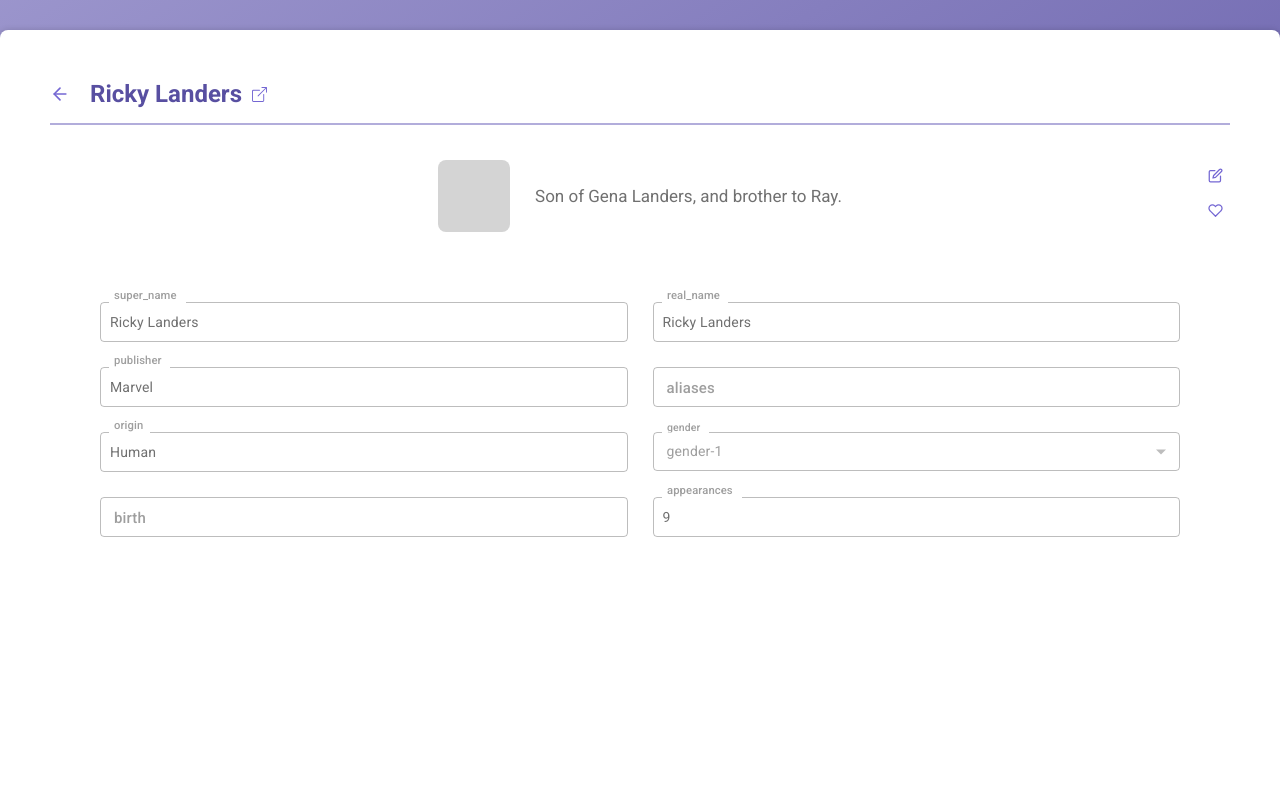
Test: CharacterInfo › should click on edit button
Click the button with test id "edit-button". click: [1215, 175]
box: [1208,168,1222,182]
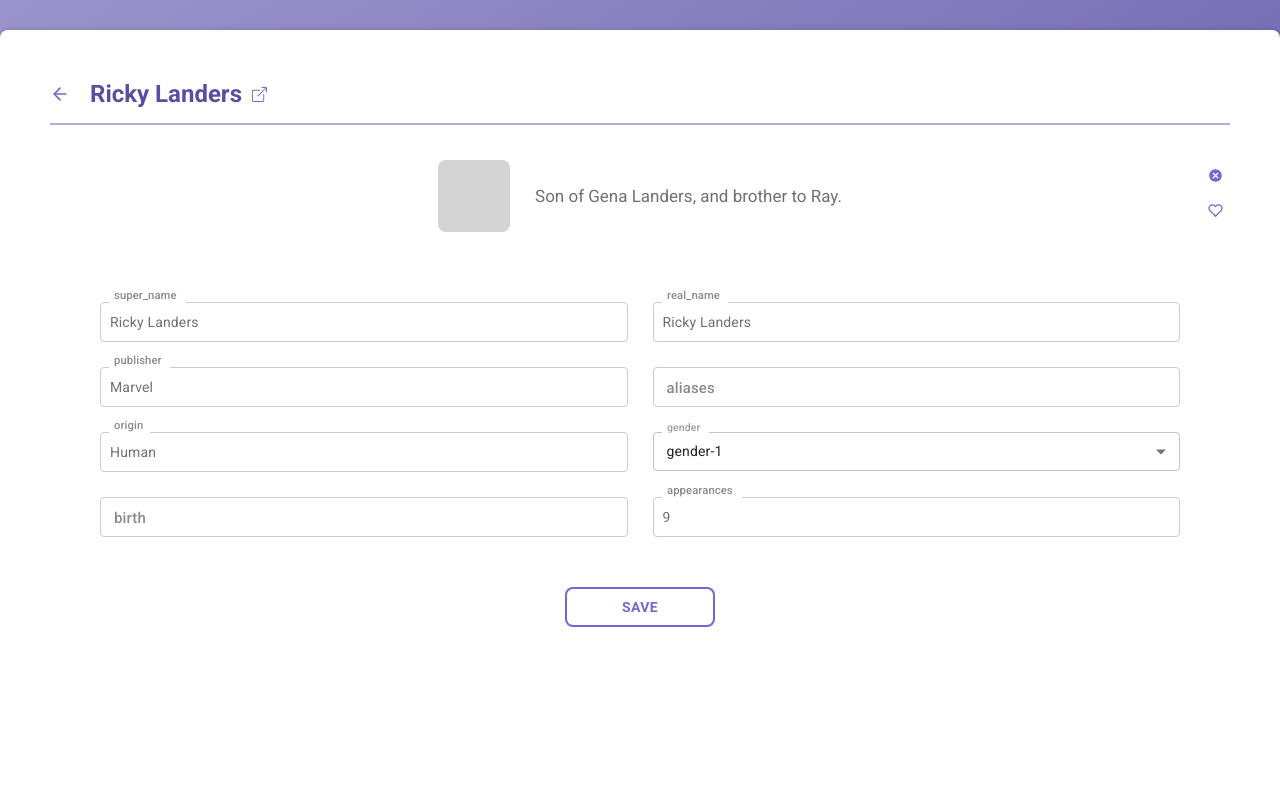
Check: the button with test id "submit-button" is shown, box [565,587,715,627]
